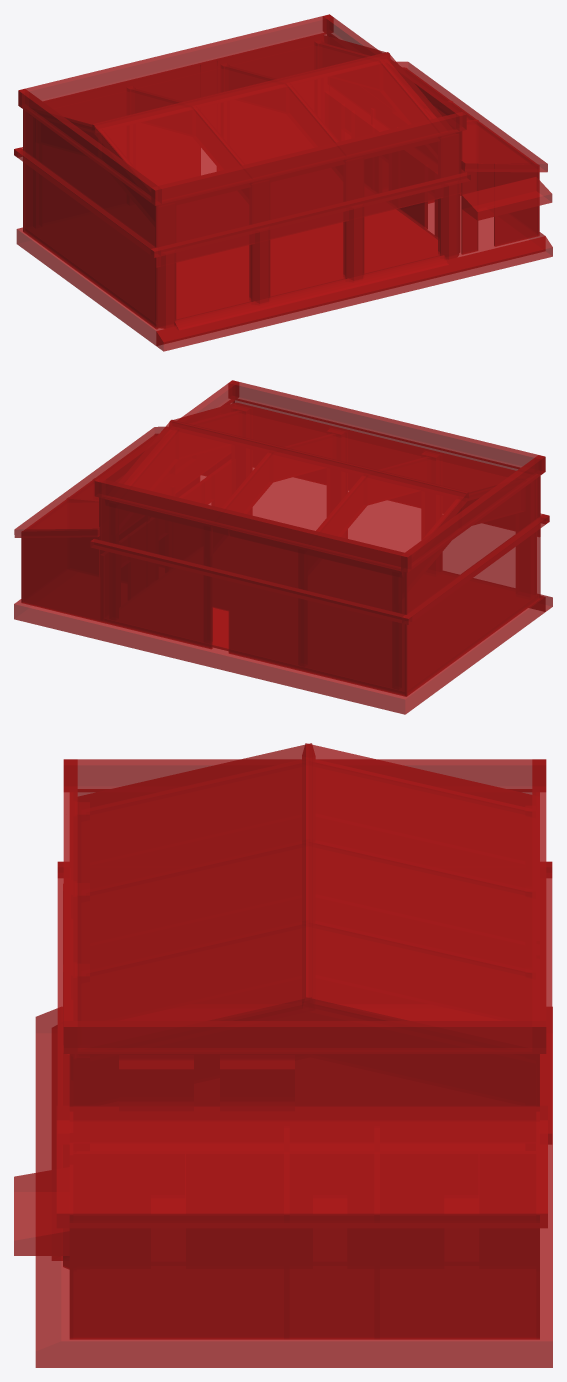
File: SM_Bld_RepairShop_Large_01_Collision.fbx
3 renders of one model, top to bottom at view 1: azimuth 30°, elevation 25°; view 2: azimuth 150°, elevation 25°; view 3: azimuth 270°, elevation 25°, orthographic. The views are drawn at different scales.
Visible parts, largest first — view 1: SM_Bld_RepairShop_Large_01_Collision; view 2: SM_Bld_RepairShop_Large_01_Collision; view 3: SM_Bld_RepairShop_Large_01_Collision.
Boxes of the visible parts, x1,y1,x2,y2 form: SM_Bld_RepairShop_Large_01_Collision: (14, 14, 552, 351); SM_Bld_RepairShop_Large_01_Collision: (14, 380, 552, 714); SM_Bld_RepairShop_Large_01_Collision: (14, 743, 552, 1367).
Size of the model in its own units: 2357 by 965 by 1588.
